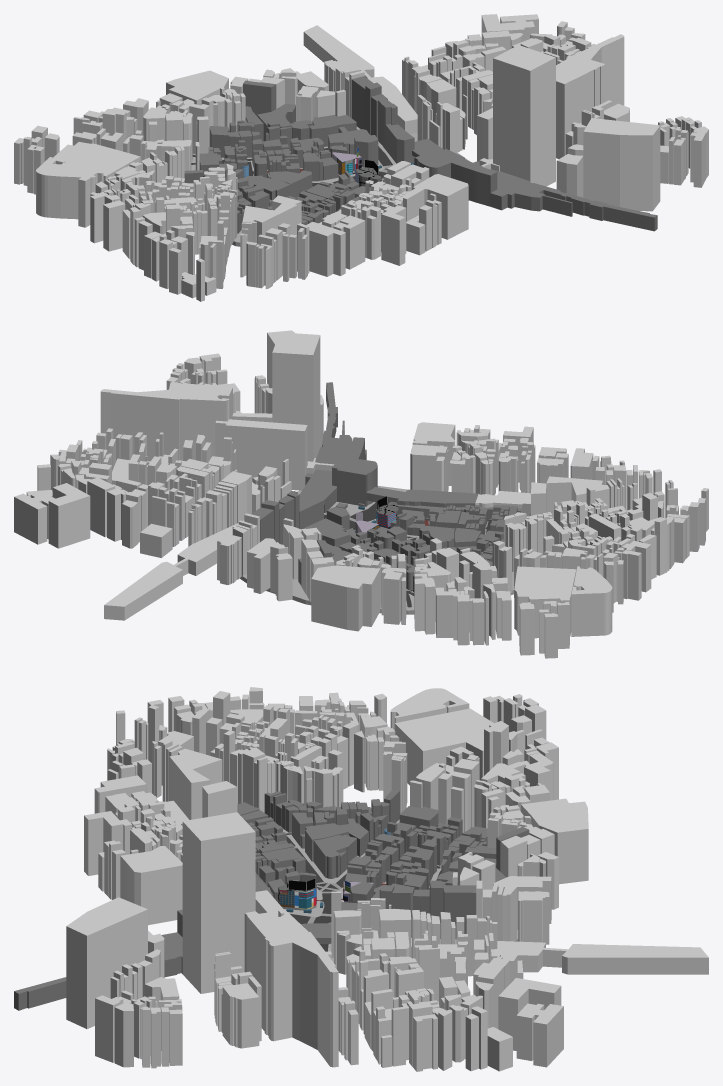
File: shibuya cut.glb
3 views of the same model, one above another, from view 1: azimuth 30°, elevation 25°; view 2: azimuth 150°, elevation 25°; view 3: azimuth 270°, elevation 25° (orthographic). The views are drawn at different scales.
Visible parts, largest first — view 1: Todo:BuildingsNoCol, Todo:Buildings-Col, LowPoly:Walkway-Col, ShibuyaCrossingMid, ShibuyaCrossingLeft; view 2: Todo:BuildingsNoCol, Todo:Buildings-Col, LowPoly:Walkway-Col, LowPoly::highway-Col, ShibuyaCrossingLeft; view 3: Todo:BuildingsNoCol, Todo:Buildings-Col, LowPoly::highway-Col, ShibuyaCrossingLeft, LowPoly:Walkway-Col.
Part boxes in pixels (x1=…): Todo:BuildingsNoCol: x1=14, y1=14, x2=708, y2=301; Todo:Buildings-Col: x1=184, y1=76, x2=657, y2=233; LowPoly:Walkway-Col: x1=191, y1=126, x2=469, y2=246; ShibuyaCrossingMid: x1=332, y1=147, x2=361, y2=174; ShibuyaCrossingLeft: x1=355, y1=159, x2=381, y2=186; Todo:BuildingsNoCol: x1=14, y1=330, x2=708, y2=658; Todo:Buildings-Col: x1=251, y1=382, x2=530, y2=592; LowPoly:Walkway-Col: x1=240, y1=486, x2=513, y2=614; LowPoly::highway-Col: x1=324, y1=502, x2=491, y2=607; ShibuyaCrossingLeft: x1=376, y1=496, x2=398, y2=528; Todo:BuildingsNoCol: x1=66, y1=687, x2=708, y2=1071; Todo:Buildings-Col: x1=14, y1=790, x2=529, y2=1010; LowPoly::highway-Col: x1=286, y1=833, x2=441, y2=951; ShibuyaCrossingLeft: x1=278, y1=878, x2=316, y2=910; LowPoly:Walkway-Col: x1=283, y1=808, x2=518, y2=962.
Size of what is drawn, in the model's own units: 1371 by 310 by 1213.
8 materials, 7 textured.
